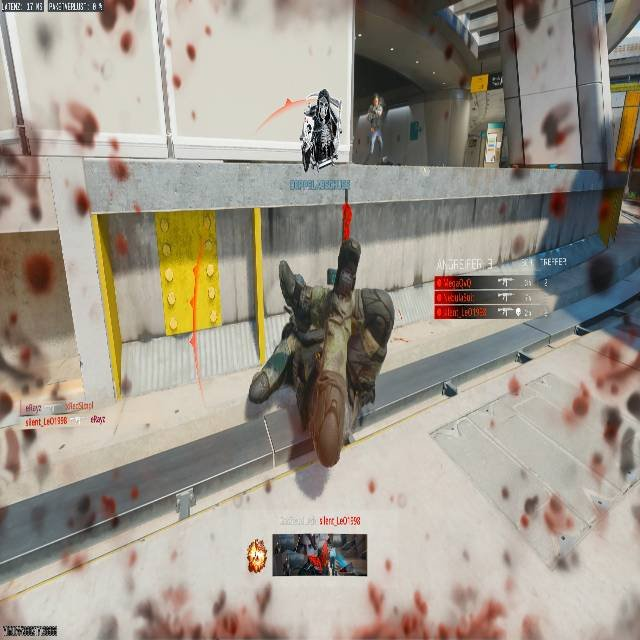head: (332, 240, 361, 295), (278, 261, 308, 312)
player: (274, 239, 394, 483), (367, 93, 386, 154)
